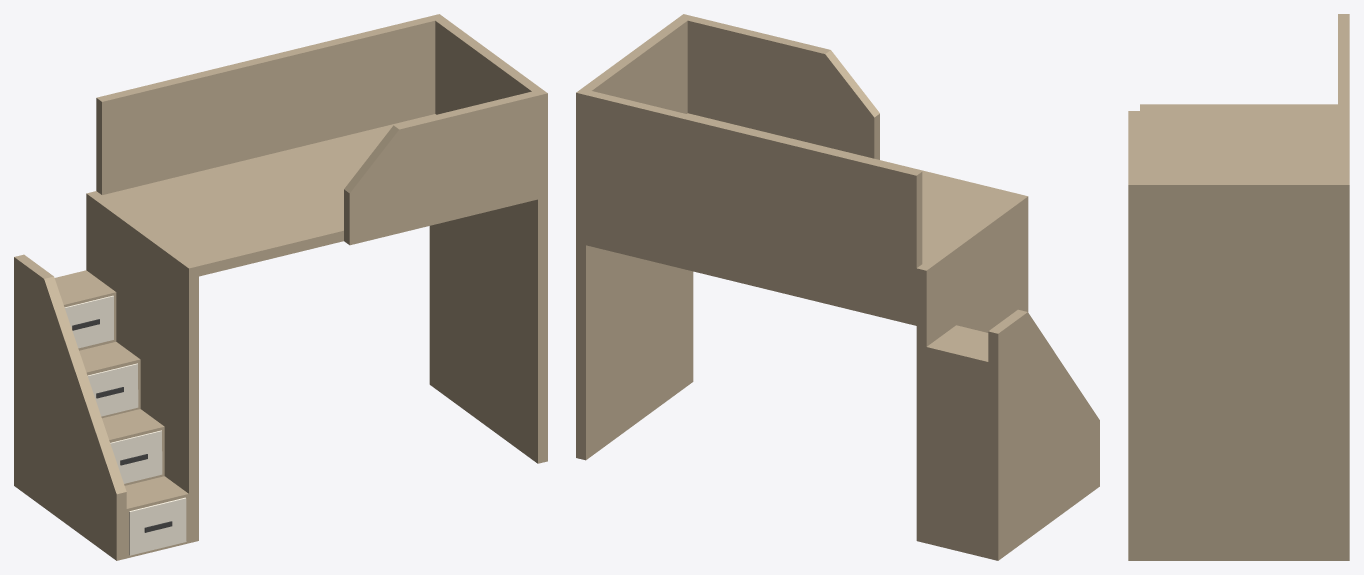
Rendered from Childroom2_bed_base_231109.glb.
The picture shows the model from 3 angles, left to right: view 1: azimuth 30°, elevation 25°; view 2: azimuth 150°, elevation 25°; view 3: azimuth 270°, elevation 25°; orthographic projection. The views are drawn at different scales.
Parts seen in each view (by area): view 1: Childroom2_bed_base; view 2: Childroom2_bed_base; view 3: Childroom2_bed_base.
Boxes of the visible parts, <box> form: Childroom2_bed_base: <box>14,14,547,560</box>; Childroom2_bed_base: <box>576,14,1099,560</box>; Childroom2_bed_base: <box>1128,14,1349,560</box>.
Bounding box in the file's own units: 3.51 × 2.9 × 1.55.
1 material, 1 textured.
